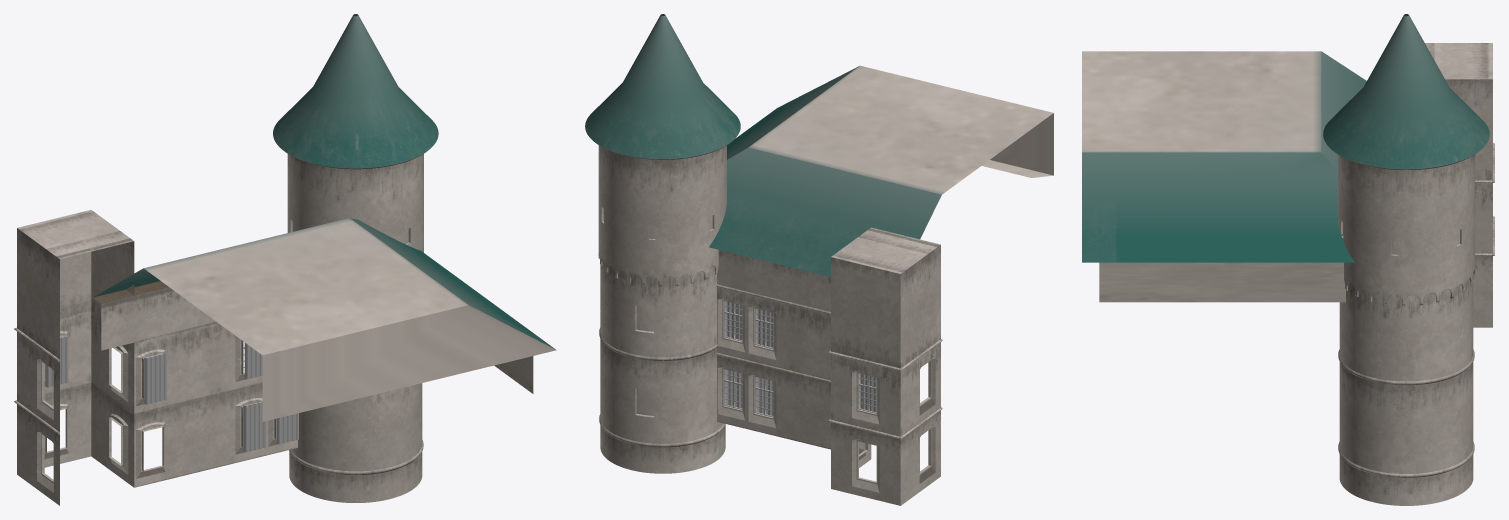
The model's file is WiezaZewn.fbx.
The picture shows the model from 3 angles, left to right: view 1: azimuth 30°, elevation 25°; view 2: azimuth 150°, elevation 25°; view 3: azimuth 270°, elevation 25°; orthographic projection. The views are drawn at different scales.
Parts seen in each view (by area): view 1: pCube4, pPlane35, pCube7, pPlane43, pPlane58, OknoZewnatrzLP12, pPlane49, pPlane59, OknoZewnatrzLP16, pPlane46, pPlane51, OknoZewnatrzLP11 (+11 smaller); view 2: pPlane35, pCube4, pCube7, pPlane43, pPlane58, OknoZewnatrzLP7, OknoZewnatrzLP17, OknoZewnatrzLP11, OknoZewnatrzLP15, OknoZewnatrzLP8, OknoZewnatrzLP18, pPlane50 (+11 smaller); view 3: pCube4, pPlane35, pCube7, pPlane46, pPlane53.
Boxes of the visible parts, x1,y1,x2,y2 form: pCube4: (92,218,556,421); pPlane35: (273,14,438,502); pCube7: (17,210,134,359); pPlane43: (167,391,233,479); pPlane58: (167,322,233,405); OknoZewnatrzLP12: (134,408,167,487); pPlane49: (70,384,91,461); pPlane59: (70,311,91,388); OknoZewnatrzLP16: (134,335,167,414); pPlane46: (91,384,110,469); pPlane51: (17,404,35,487); OknoZewnatrzLP11: (233,384,266,463); pPlane35: (585,14,740,473); pCube4: (709,65,1053,311); pCube7: (831,227,940,368); pPlane43: (778,370,830,449); pPlane58: (778,301,830,380); OknoZewnatrzLP7: (850,427,881,500); OknoZewnatrzLP17: (850,359,881,431); OknoZewnatrzLP11: (747,362,777,436); OknoZewnatrzLP15: (747,294,777,367); OknoZewnatrzLP8: (717,355,746,428); OknoZewnatrzLP18: (717,287,746,359); pPlane50: (881,434,900,505); pCube4: (1082,51,1366,302); pPlane35: (1323,14,1489,505); pCube7: (1425,43,1492,180); pPlane46: (1473,256,1492,327); pPlane53: (1475,183,1492,253).
Bounding box in the file's own units: 22.36 × 26.6 × 21.52.
